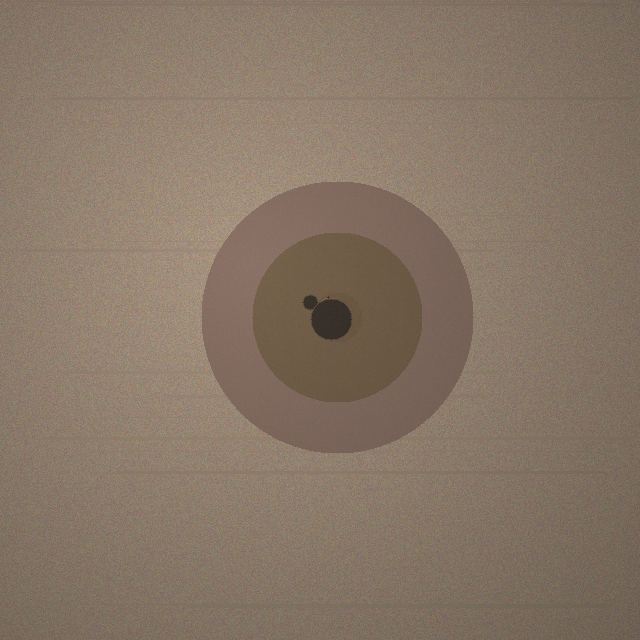shrinkage: (201, 181, 473, 453)
